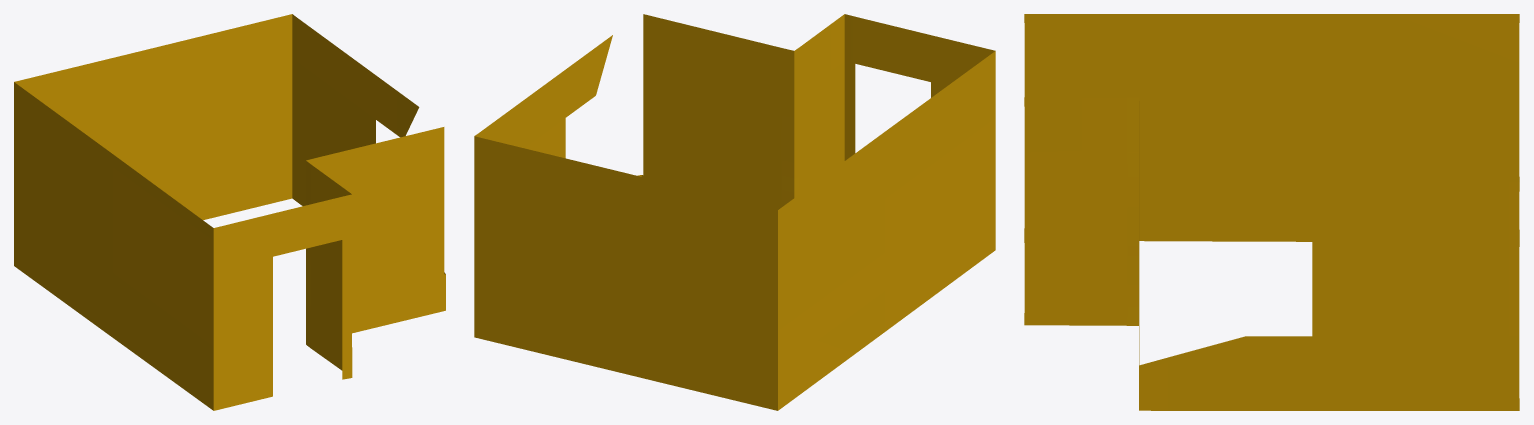
File: BH07B_WP_04_Break.fbx
The picture shows the model from 3 angles, left to right: view 1: azimuth 30°, elevation 25°; view 2: azimuth 150°, elevation 25°; view 3: azimuth 270°, elevation 25°; orthographic projection. The views are drawn at different scales.
Visible parts, largest first — view 1: BH07B_WP_04_Break; view 2: BH07B_WP_04_Break; view 3: BH07B_WP_04_Break.
Boxes of the visible parts, <box> form: BH07B_WP_04_Break: <box>14,14,445,410</box>; BH07B_WP_04_Break: <box>474,14,995,410</box>; BH07B_WP_04_Break: <box>1024,14,1519,410</box>.
Size of the model in its own units: 474 by 300 by 589.
